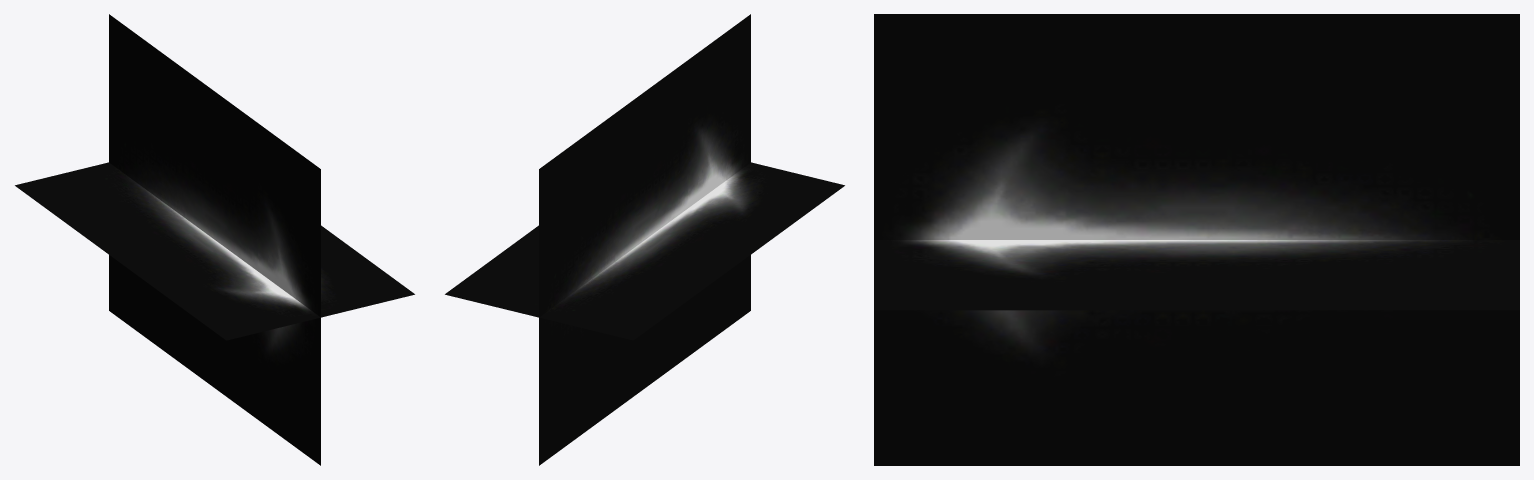
The picture shows the model from 3 angles, left to right: view 1: azimuth 30°, elevation 25°; view 2: azimuth 150°, elevation 25°; view 3: azimuth 270°, elevation 25°; orthographic projection. The views are drawn at different scales.
Parts seen in each view (by area): view 1: ci; view 2: ci; view 3: ci.
Boxes of the visible parts, x1,y1,x2,y2 form: ci: [15, 14, 414, 465]; ci: [445, 14, 844, 465]; ci: [874, 14, 1519, 465].
Size of the model in its own units: 3.5 by 5.25 by 6.8.
1 material, 1 textured.
